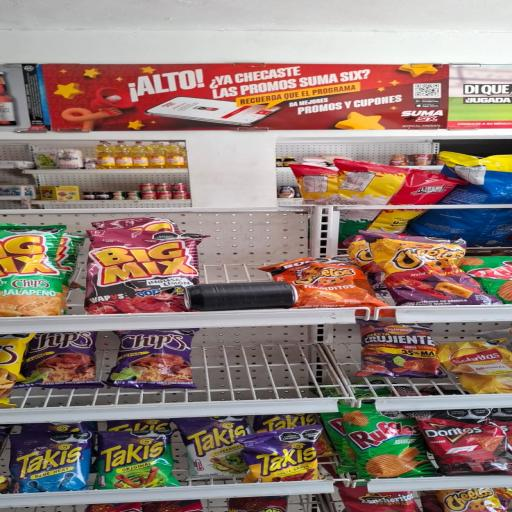LATA: (164, 281, 319, 314)
